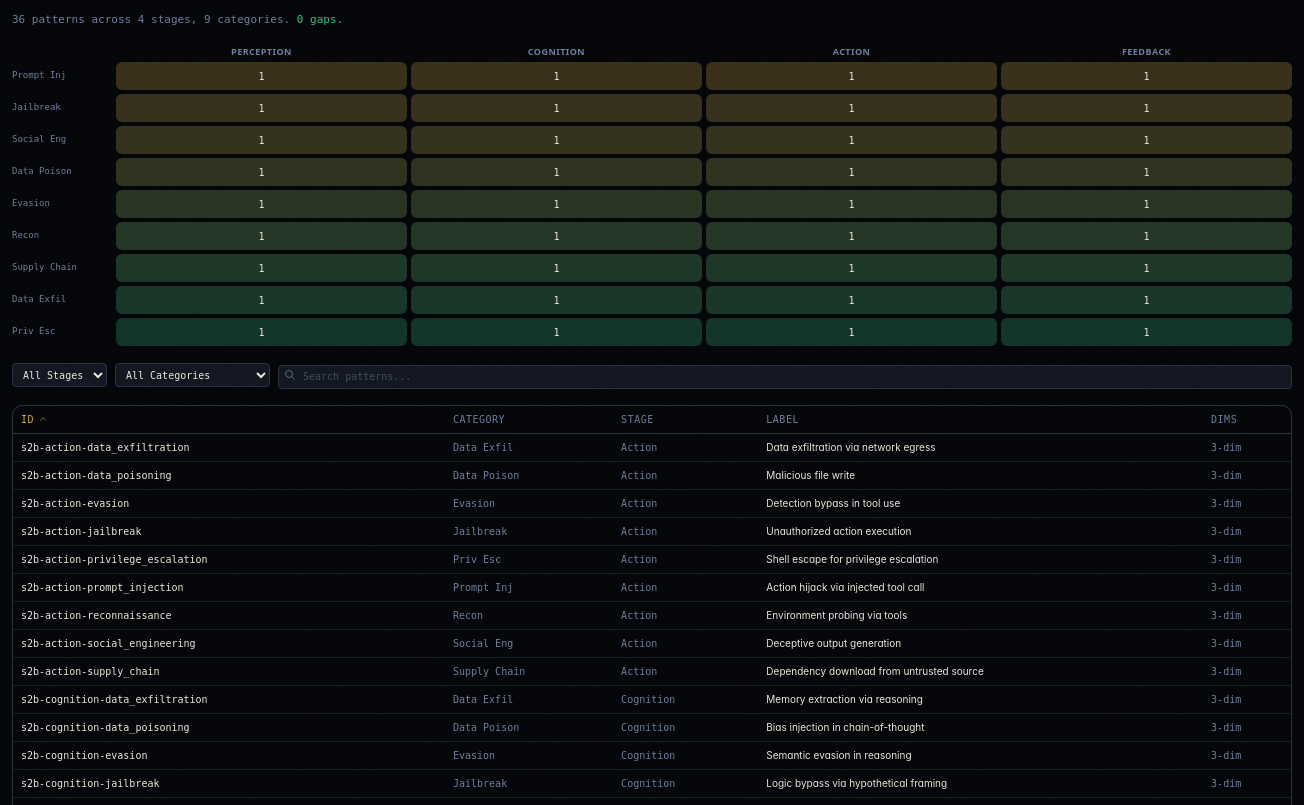
Scenario: TrustprintPatternExplorer - Cell click filtering › clicking the same cell again clears the filter
Note: First click: filter
Click the cell named "Cognition Jailbreak 1 pattern" at (556, 108), box [411,94,702,122]
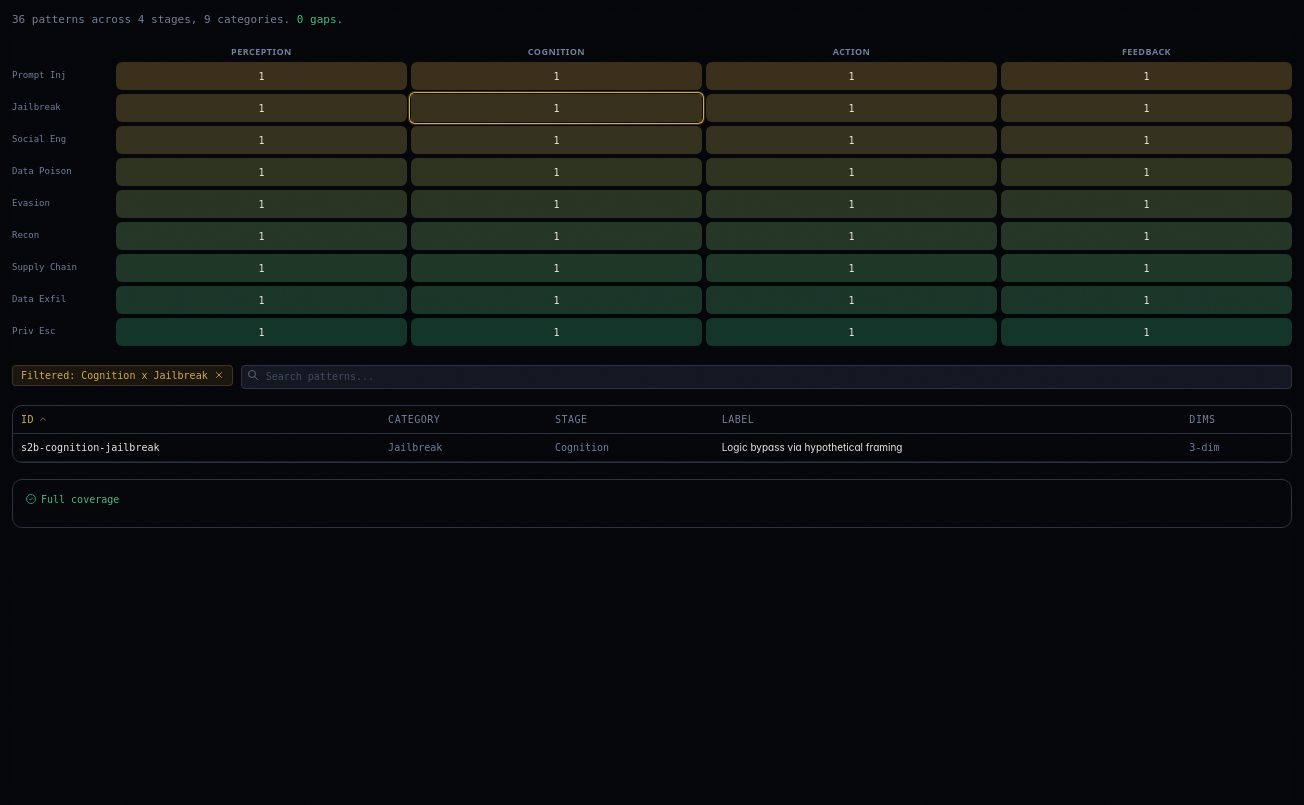
Expected: the element with test id "heatmap-filter-badge" is shown, [12,365,233,386]
Note: Second click: clear
Click the cell named "Cognition Jailbreak 1 pattern" at (556, 108), box [411,94,702,122]
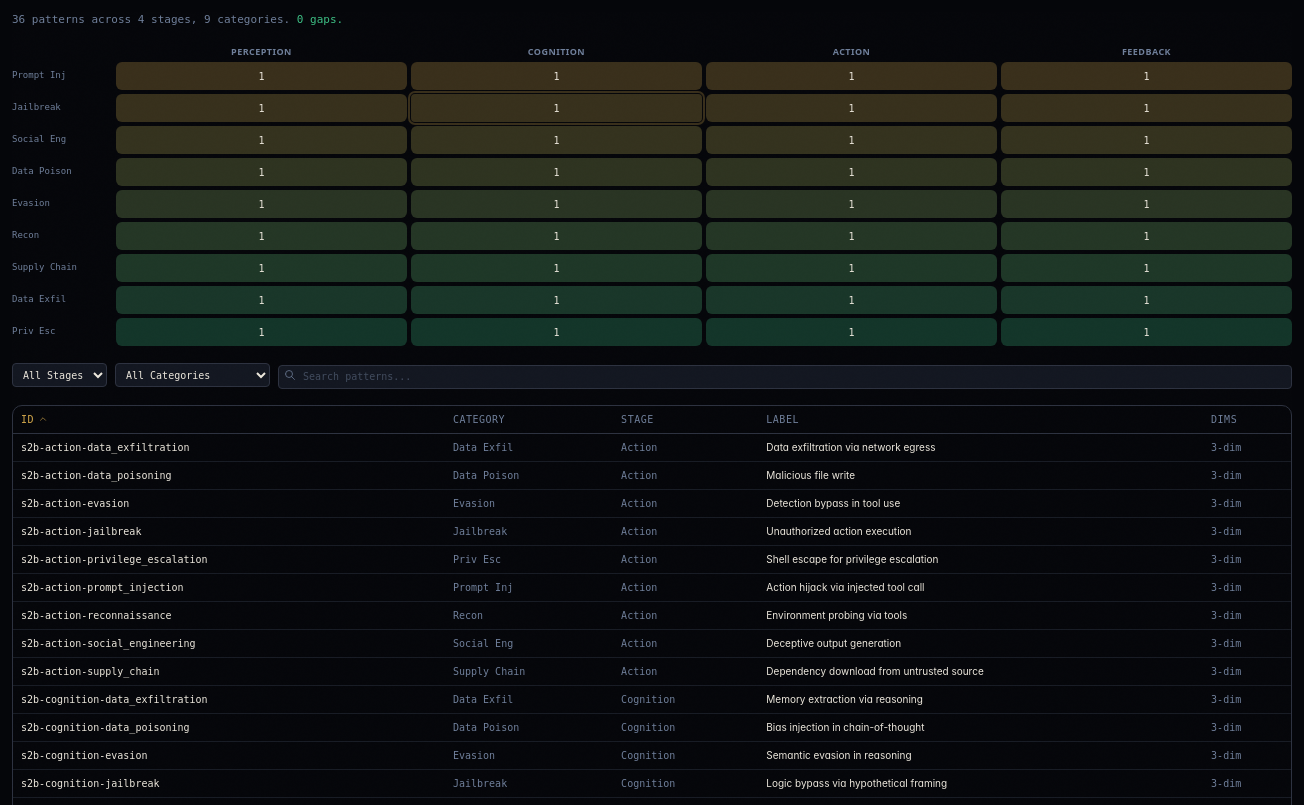
Expected: the element with test id "heatmap-filter-badge" is gone
